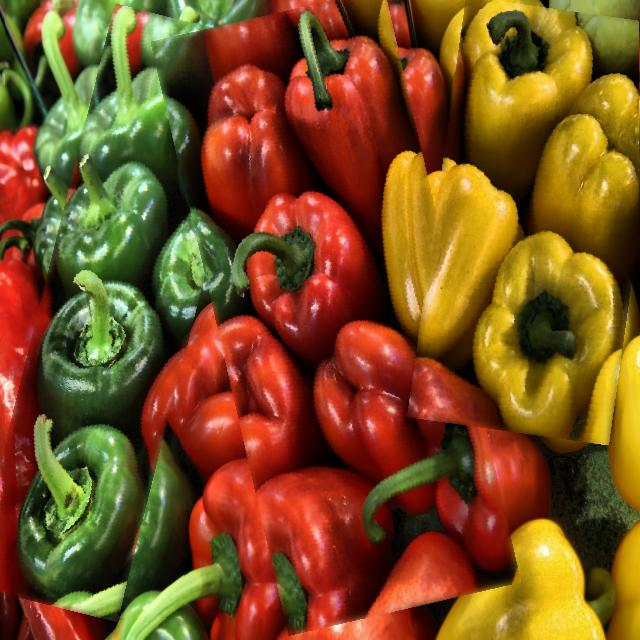capsicum: (421, 2, 640, 439)
green pepper: (6, 8, 228, 618)
red capsicum: (184, 0, 488, 626)
